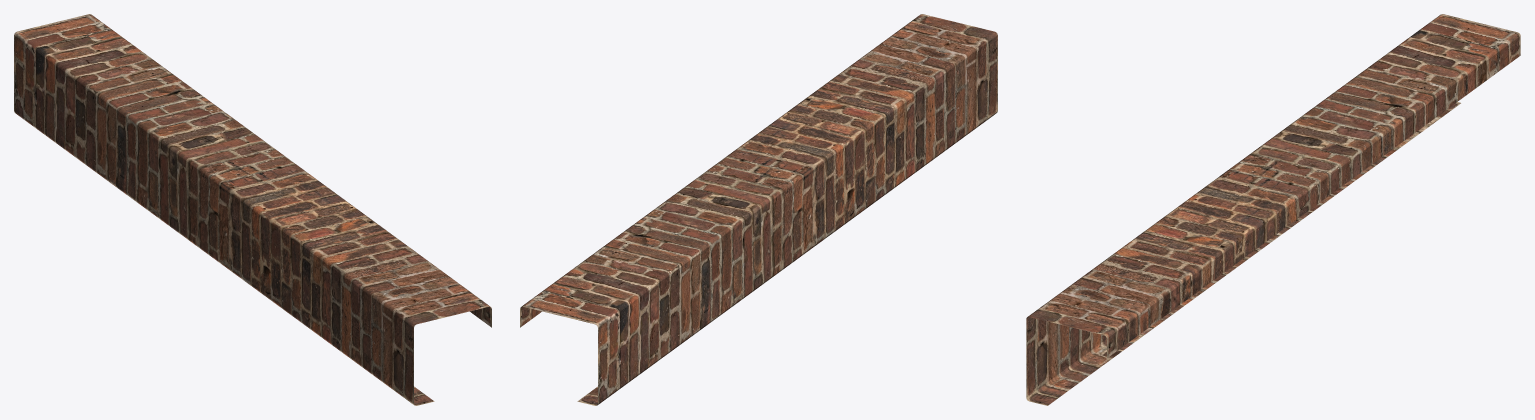
File: factory_pillar.obj
3 views of the same model, side by side, from view 1: azimuth 30°, elevation 25°; view 2: azimuth 150°, elevation 25°; view 3: azimuth 330°, elevation 25° (orthographic). The views are drawn at different scales.
Visible parts, largest first — view 1: wall_pier_corner_01; view 2: wall_pier_corner_01; view 3: wall_pier_corner_01.
Boxes of the visible parts, bbox=[...] form: wall_pier_corner_01: bbox=[14, 14, 491, 405]; wall_pier_corner_01: bbox=[520, 14, 997, 405]; wall_pier_corner_01: bbox=[1026, 14, 1520, 405].
Size of the model in its own units: 0.45 by 0.45 by 4.
1 material, 1 textured.
